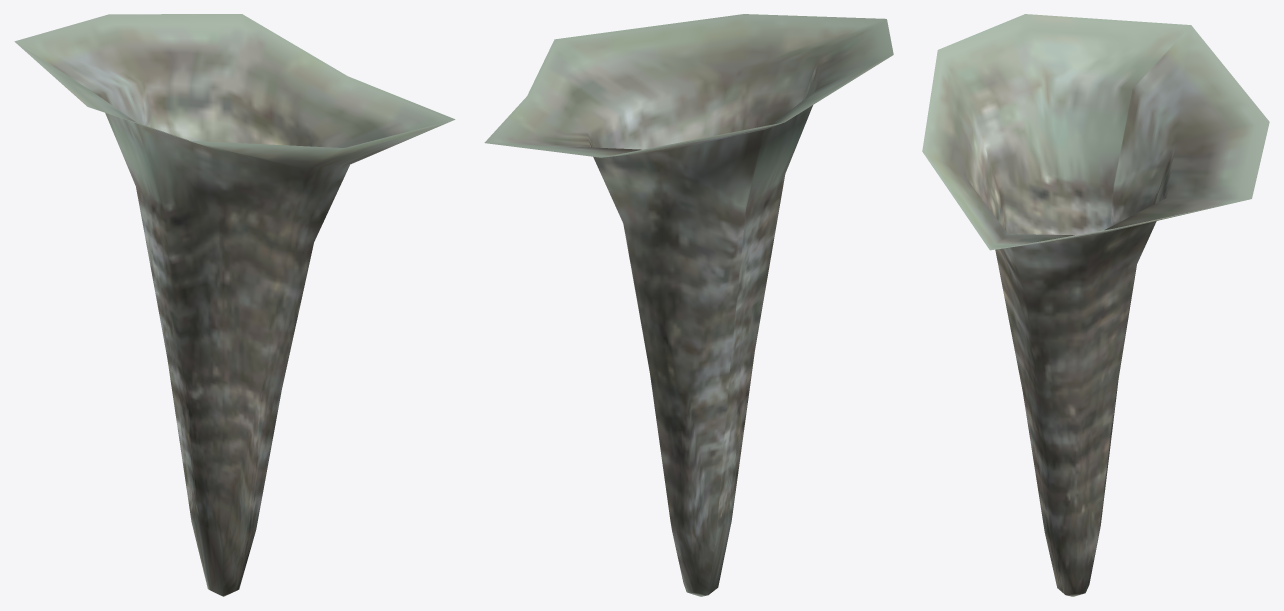
File: TROLLHOLE02_PS-MAINSTALAG06.fbx
3 views of the same model, side by side, from view 1: azimuth 30°, elevation 25°; view 2: azimuth 150°, elevation 25°; view 3: azimuth 270°, elevation 25° (orthographic). The views are drawn at different scales.
Visible parts, largest first — view 1: TROLLHOLE02_PS-MAINSTALAG06; view 2: TROLLHOLE02_PS-MAINSTALAG06; view 3: TROLLHOLE02_PS-MAINSTALAG06.
Part boxes in pixels (box(x1,y1,x2,y2)): TROLLHOLE02_PS-MAINSTALAG06: box(14, 14, 455, 596); TROLLHOLE02_PS-MAINSTALAG06: box(484, 14, 893, 596); TROLLHOLE02_PS-MAINSTALAG06: box(922, 14, 1269, 596).
Size of the model in its own units: 27540 by 41320 by 25537.
1 material, 1 textured.
